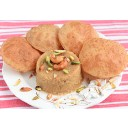poori: (83, 37, 128, 76), (59, 21, 99, 52), (2, 37, 37, 71), (27, 24, 61, 51)
